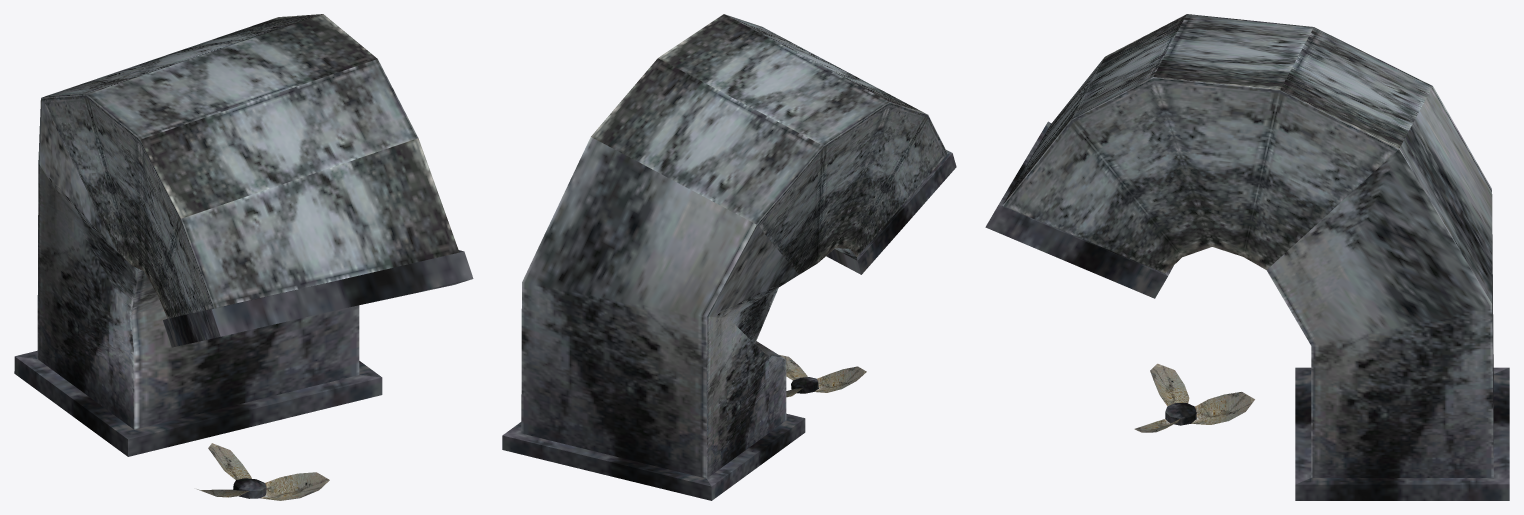
Rendered from Fan_Wrecked_2.fbx.
3 renders of one model, left to right at view 1: azimuth 30°, elevation 25°; view 2: azimuth 150°, elevation 25°; view 3: azimuth 270°, elevation 25°, orthographic. The views are drawn at different scales.
Visible parts, largest first — view 1: Fan_Wrecked_2; view 2: Fan_Wrecked_2; view 3: Fan_Wrecked_2.
Part boxes in pixels (left/top/right/bottom): Fan_Wrecked_2: left=14, top=14, right=473, bottom=500; Fan_Wrecked_2: left=502, top=14, right=956, bottom=500; Fan_Wrecked_2: left=985, top=14, right=1509, bottom=500.
Bounding box in the file's own units: 115 × 152 × 183.
